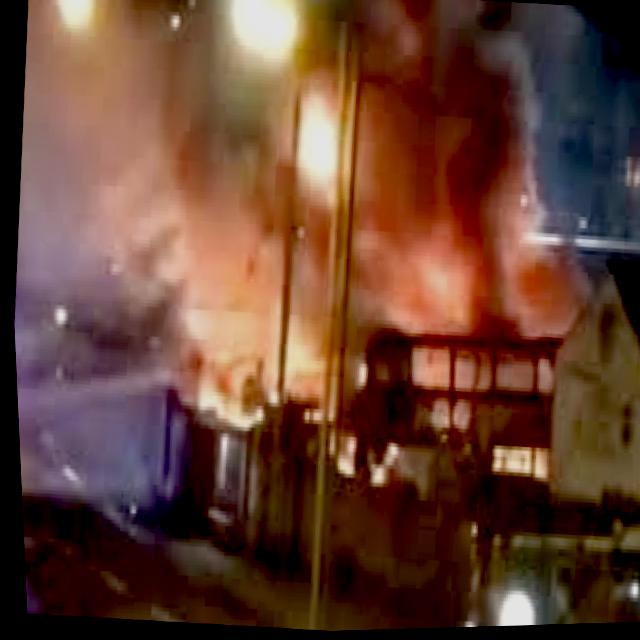Smoke: (92, 0, 554, 414), (335, 0, 562, 345)
